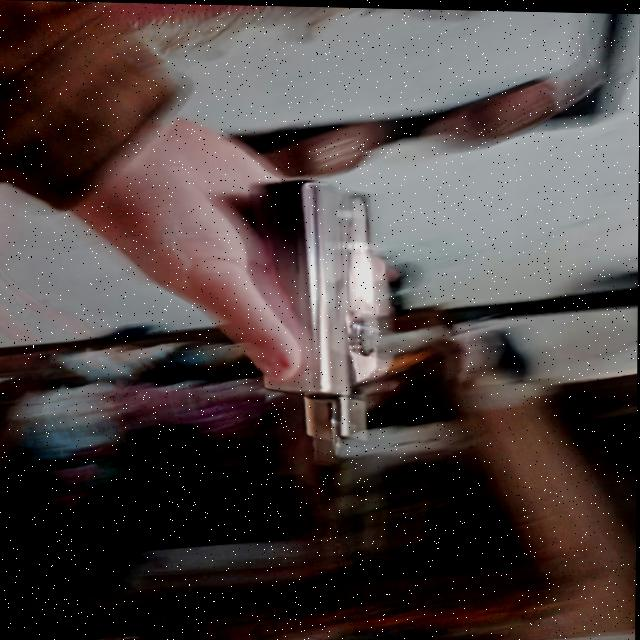Afnan: (245, 176, 476, 466)
